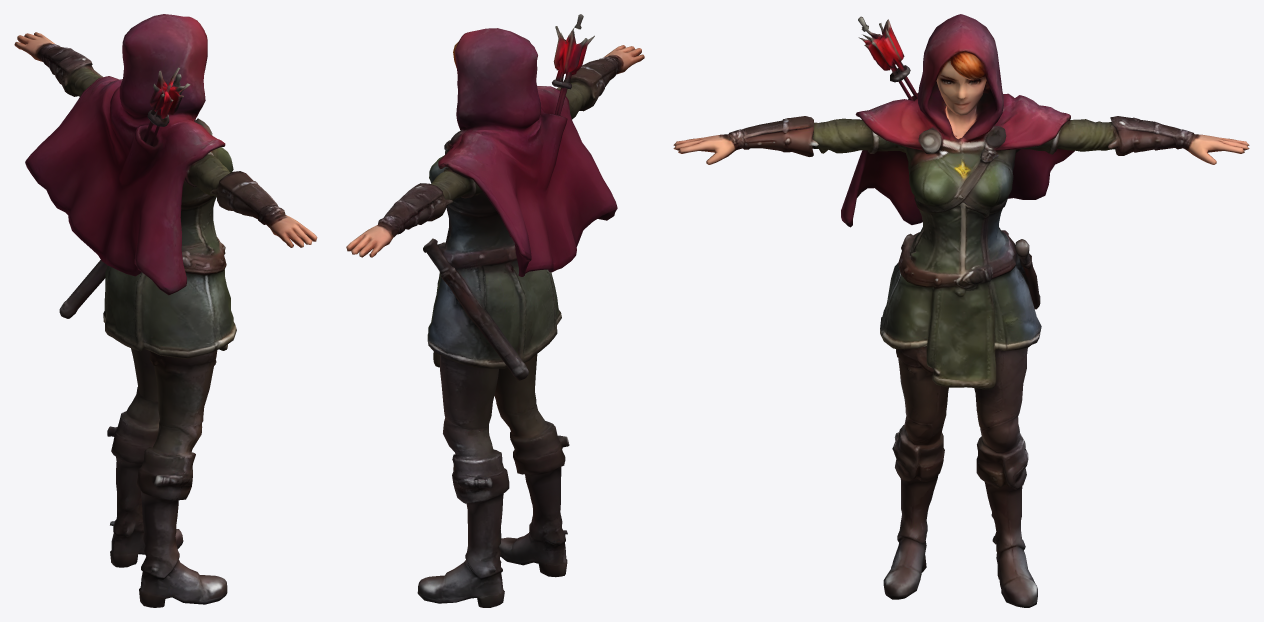
The picture shows the model from 3 angles, left to right: view 1: azimuth 30°, elevation 25°; view 2: azimuth 150°, elevation 25°; view 3: azimuth 270°, elevation 25°; orthographic projection. The views are drawn at different scales.
Parts seen in each view (by area): view 1: tripo_node_3e8e76e3-7fbd-4c25-b953-d6cf44bbfc73; view 2: tripo_node_3e8e76e3-7fbd-4c25-b953-d6cf44bbfc73; view 3: tripo_node_3e8e76e3-7fbd-4c25-b953-d6cf44bbfc73.
Boxes of the visible parts, x1,y1,x2,y2 form: tripo_node_3e8e76e3-7fbd-4c25-b953-d6cf44bbfc73: [14, 14, 317, 607]; tripo_node_3e8e76e3-7fbd-4c25-b953-d6cf44bbfc73: [346, 14, 644, 607]; tripo_node_3e8e76e3-7fbd-4c25-b953-d6cf44bbfc73: [673, 14, 1249, 607].
Bounding box in the file's own units: 0.2544 × 1 × 0.9217.
1 material, 1 textured.
